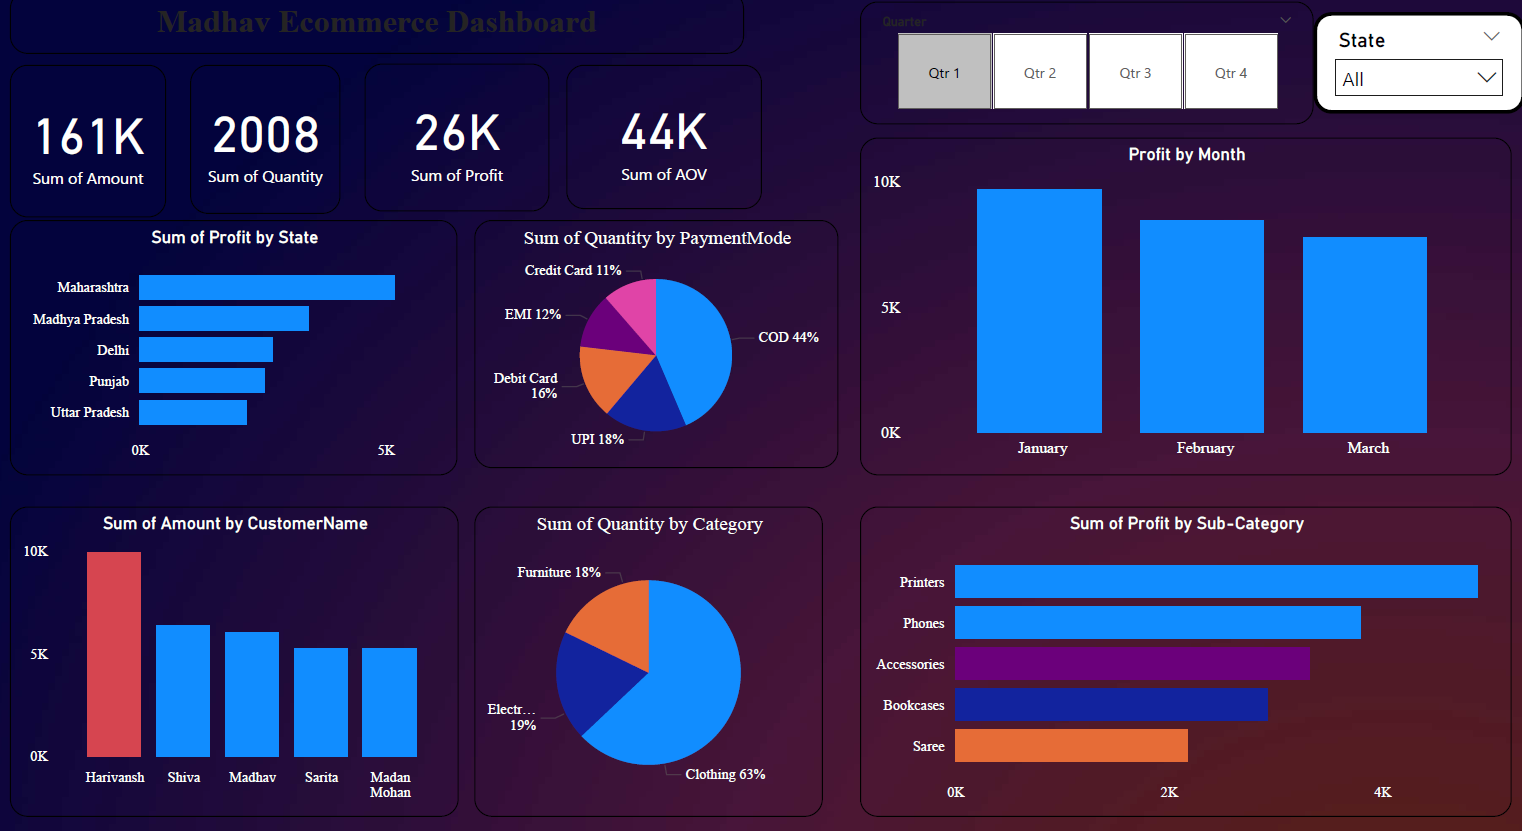

Layout of this report page (visuals, bound fields, positions):
{"tool":"powerbi","page":{"name":"Page 1","canvas":[1280,720],"ordinal":0},"visuals":[{"type":"textbox","box":[10.7,0,615.8,53.4],"z":0},{"type":"columnChart","title":"Profit by Month","fields":{"Category":["Orders.Order Date.Variation.Date Hierarchy.Month"],"Y":["Details.Profit"]},"box":[722.6,122.8,546.4,283],"z":1000},{"type":"barChart","fields":{"Category":["Details.Sub-Category"],"Y":["Details.Profit"]},"box":[722.6,432.5,546.4,259.8],"z":2000},{"type":"pieChart","fields":{"Category":["Details.Category"],"Y":["Details.Quantity"]},"box":[400.5,432.5,291.9,259.8],"z":3000},{"type":"pieChart","fields":{"Y":["Details.Quantity"],"Category":["Details.PaymentMode"]},"box":[400.5,192.2,304.3,208.2],"z":4000},{"type":"card","fields":{"Values":["Details.Amount"]},"box":[10.7,62.3,131.7,128.1],"z":5000},{"type":"card","fields":{"Values":["Details.Quantity"]},"box":[162,62.3,126.4,124.6],"z":6000},{"type":"card","fields":{"Values":["Details.Profit"]},"box":[307.9,60.5,154.8,124.6],"z":7000},{"type":"card","fields":{"Values":["Details.AOV"]},"box":[477,62.3,163.7,121],"z":8000},{"type":"barChart","fields":{"Y":["Details.Profit"],"Category":["Orders.State"]},"box":[10.7,192.2,375.5,213.6],"z":9000},{"type":"columnChart","fields":{"Category":["Orders.CustomerName"],"Y":["Details.Amount"]},"box":[11,432,376,260],"z":10000},{"type":"slicer","fields":{"Values":["Orders.Order Date.Variation.Date Hierarchy.Quarter"]},"box":[722.6,8.9,380.9,103.2],"z":11000},{"type":"slicer","fields":{"Values":["Orders.State"]},"box":[1103.5,17.8,176.2,85.4],"z":12000}]}

Visuals, with their boxes on the page's 1280x720 design canvas (x1, y1, x2, y2). These are canvas units, not pixel positions in the 1522x831 screenshot, which may show the page scaled, cropped or inside an application window:
textbox: locate(11, 0, 626, 53)
"Profit by Month" columnChart: locate(723, 123, 1269, 406)
barChart - Details.Sub-Category x Details.Profit: locate(723, 432, 1269, 692)
pieChart - Details.Category x Details.Quantity: locate(400, 432, 692, 692)
pieChart - Details.Quantity x Details.PaymentMode: locate(400, 192, 705, 400)
card - Details.Amount: locate(11, 62, 142, 190)
card - Details.Quantity: locate(162, 62, 288, 187)
card - Details.Profit: locate(308, 60, 463, 185)
card - Details.AOV: locate(477, 62, 641, 183)
barChart - Details.Profit x Orders.State: locate(11, 192, 386, 406)
columnChart - Orders.CustomerName x Details.Amount: locate(11, 432, 387, 692)
slicer - Orders.Order Date.Variation.Date Hierarchy.Quarter: locate(723, 9, 1104, 112)
slicer - Orders.State: locate(1104, 18, 1280, 103)
